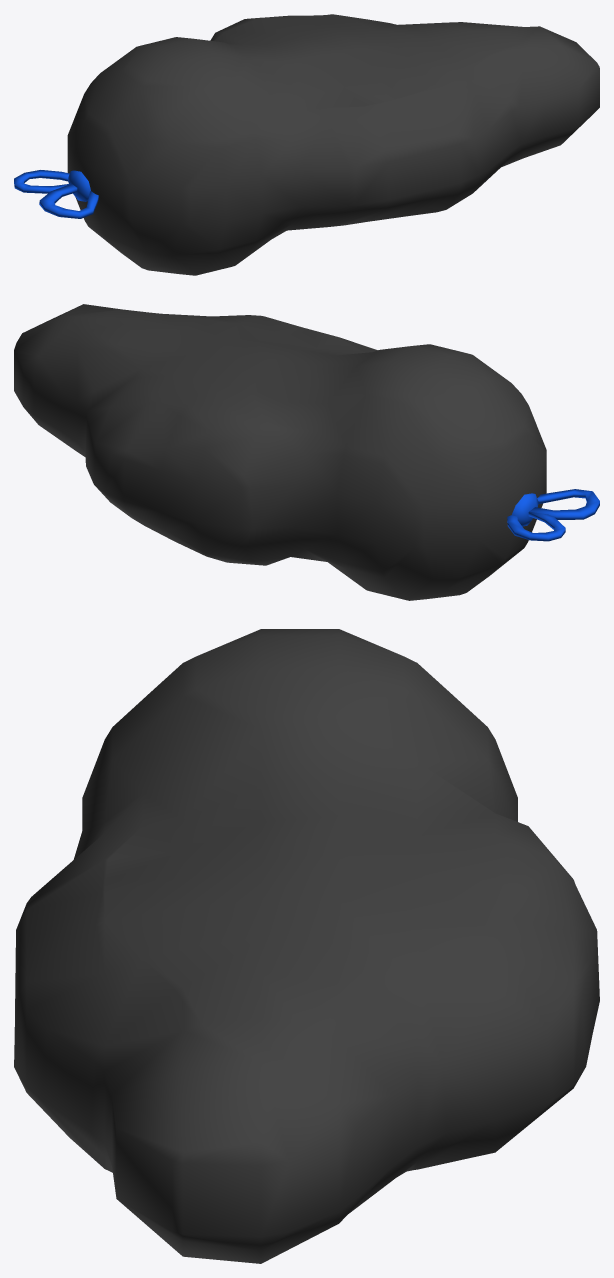
Rendered from Bagged Corpse 1.fbx.
3 renders of one model, top to bottom at view 1: azimuth 30°, elevation 25°; view 2: azimuth 150°, elevation 25°; view 3: azimuth 270°, elevation 25°, orthographic. The views are drawn at different scales.
Parts seen in each view (by area): view 1: Mball, Tie; view 2: Mball, Tie; view 3: Mball.
Boxes of the visible parts, x1,y1,x2,y2 form: Mball: (67, 14, 599, 275); Tie: (14, 170, 98, 218); Mball: (14, 304, 546, 600); Tie: (507, 489, 599, 541); Mball: (14, 629, 599, 1263).
Size of the model in its own units: 141 by 53.05 by 71.36.
